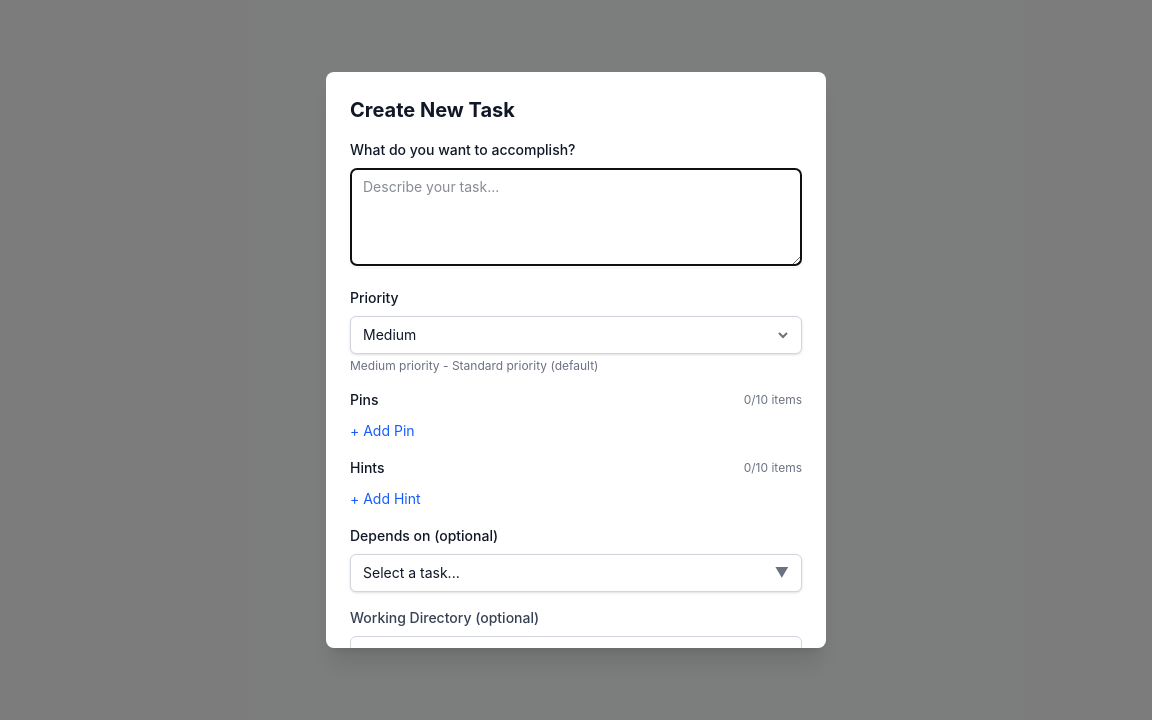
it: CreateTaskModal - Priority Dropdown › handles API errors gracefully
The width and height of the screenshot is (1152, 720).
Type "Test task" into the text box labelled "What do you want to accomplish?" at coordinates (576, 217), box [350,168,802,266]
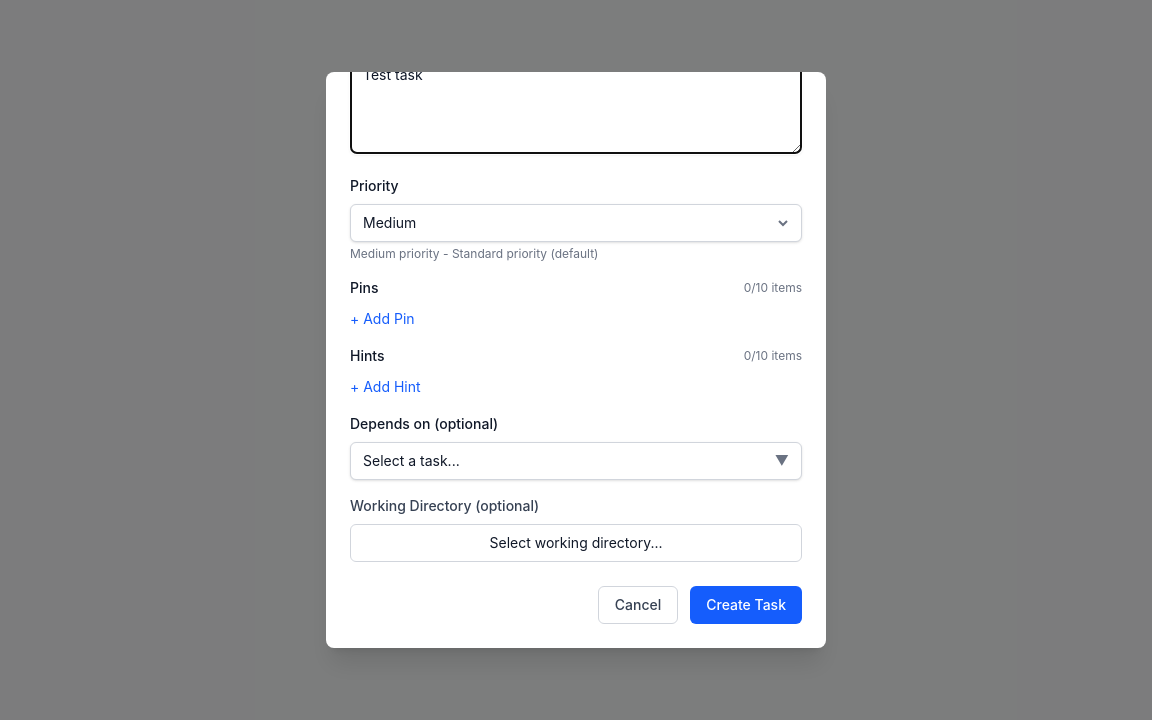
Click the button "Create Task" at coordinates (746, 605), box [690,586,802,624]
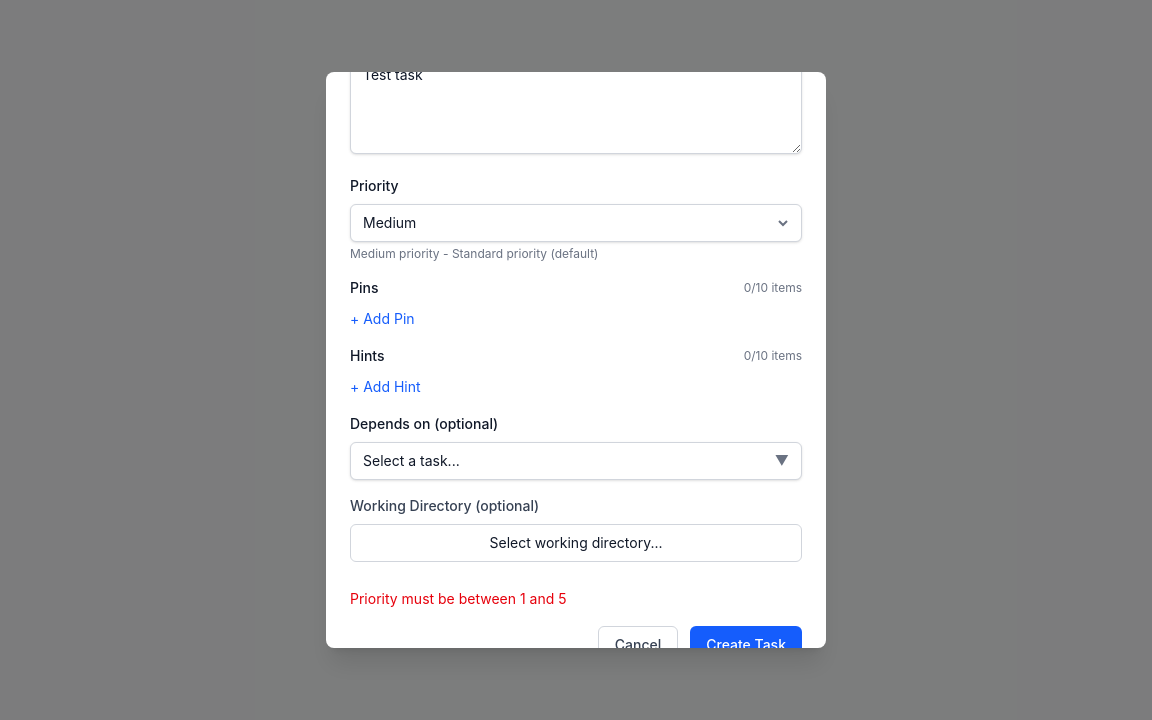
Check: the text "Priority must be between 1 and 5" is shown, box [350,590,567,607]
